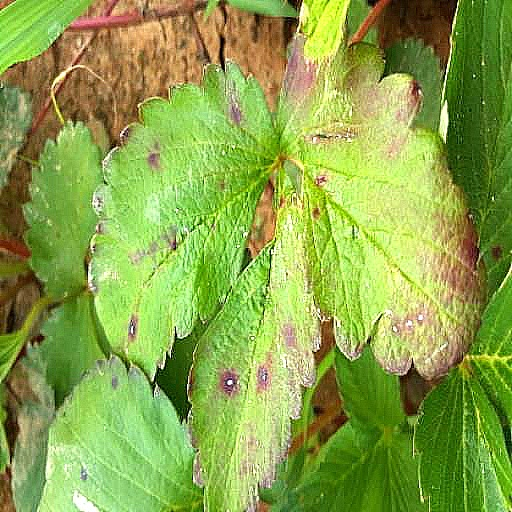Leaf Spot: (270, 132, 486, 494), (87, 128, 283, 455), (185, 0, 322, 347), (37, 0, 205, 161), (438, 203, 511, 511)
